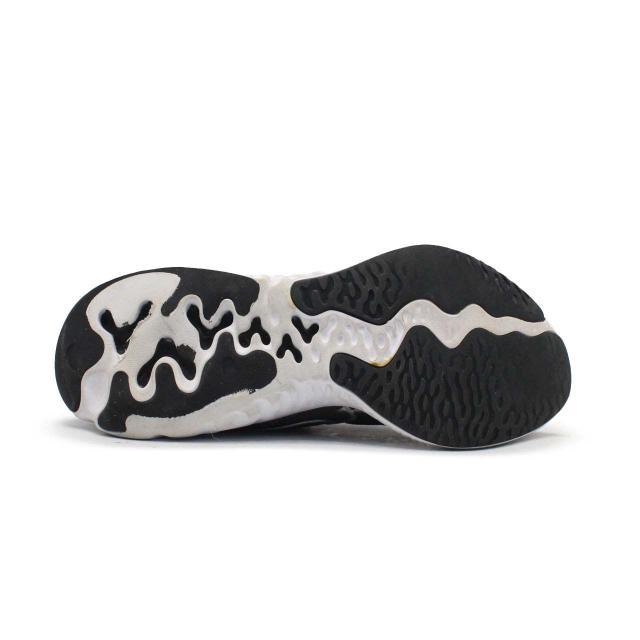outersole: (54, 245, 571, 448)
